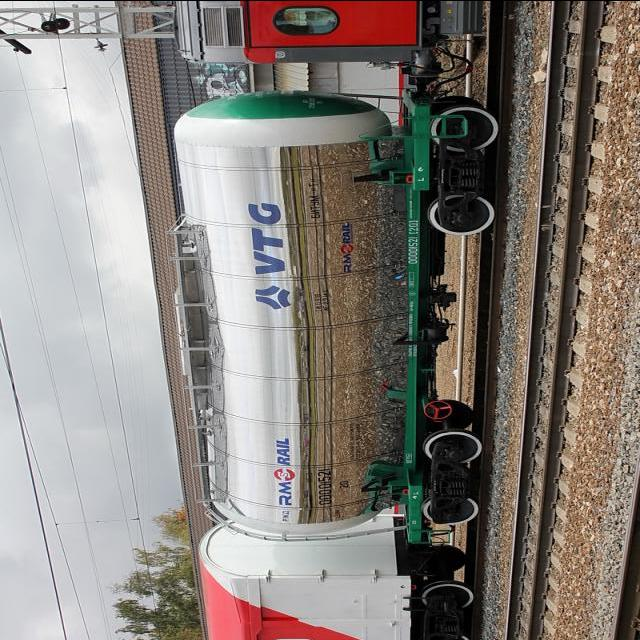wagon: (314, 468, 336, 504), (404, 233, 422, 264)
